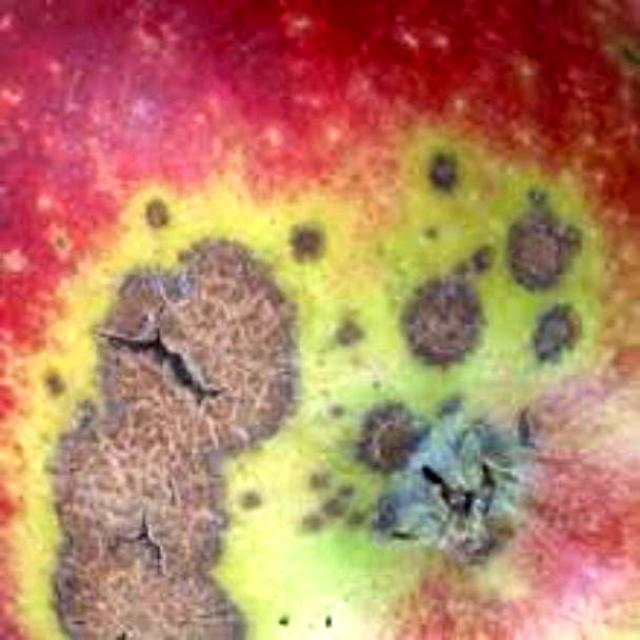SCAB: (11, 14, 628, 632)
